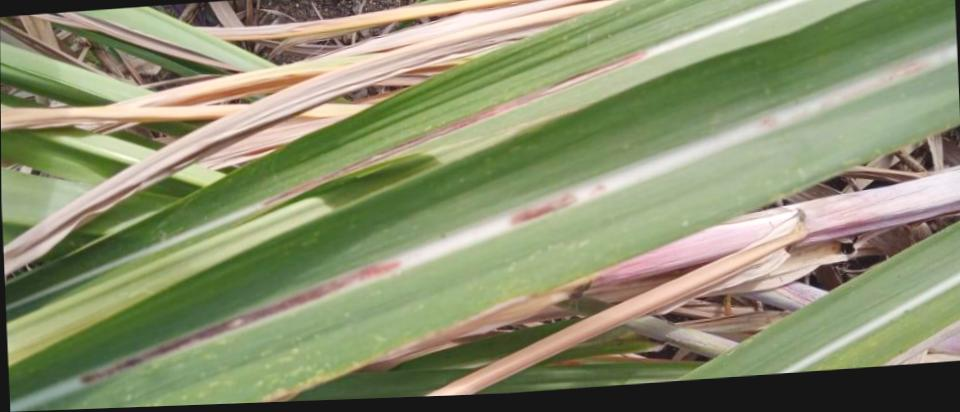RedRot: (257, 49, 647, 208), (79, 259, 404, 386), (756, 59, 930, 132), (508, 180, 610, 226)
